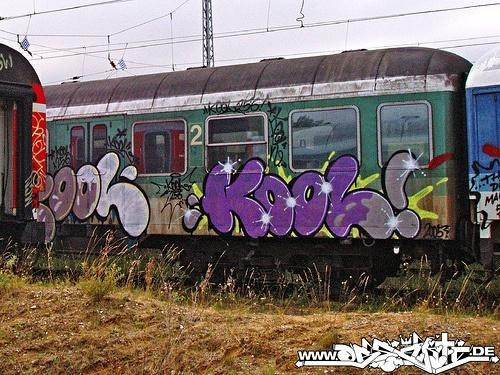train: (26, 43, 500, 311)
